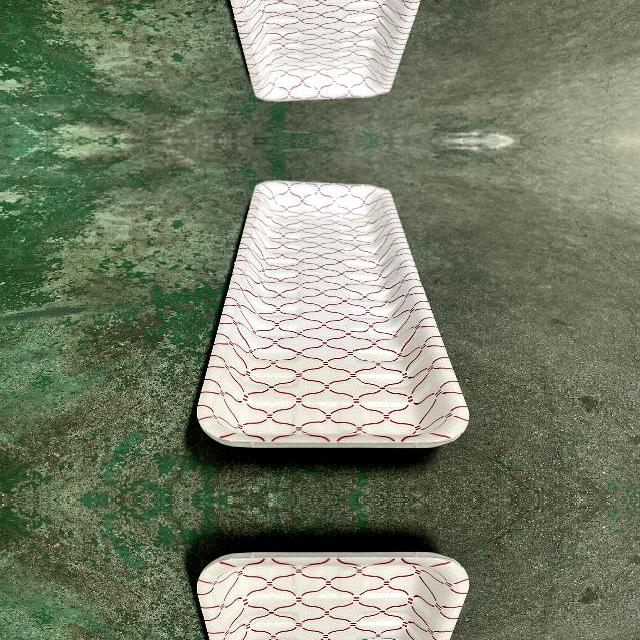Styrofoam: (198, 178, 470, 448), (197, 179, 470, 448), (197, 0, 470, 101), (197, 550, 470, 640), (197, 550, 470, 640), (230, 0, 421, 101)
